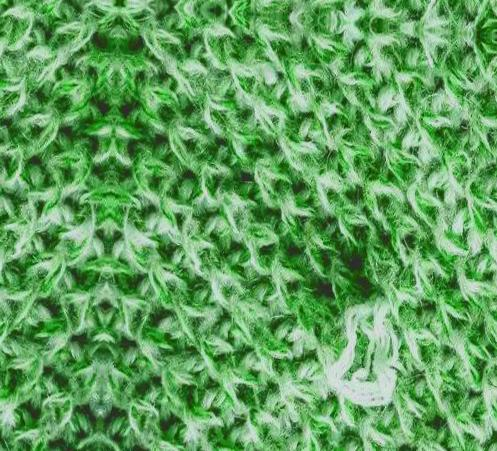snag: (309, 295, 416, 408)
